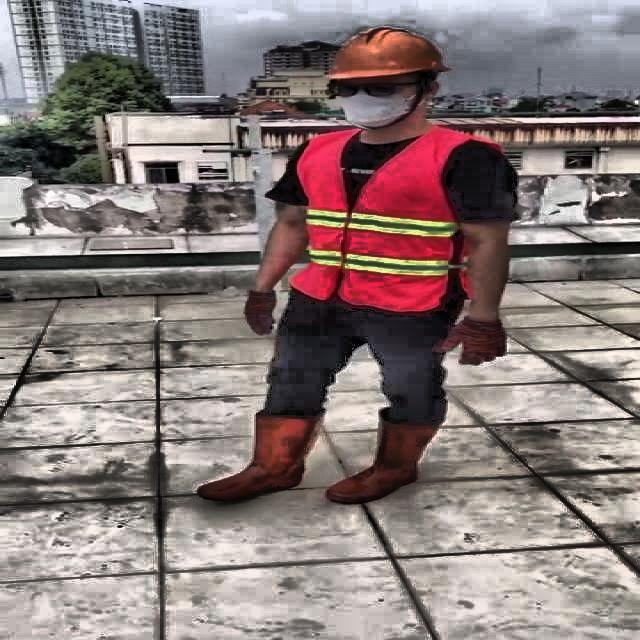safety_helmet: (322, 26, 456, 84)
safety_jacket: (288, 128, 474, 312)
